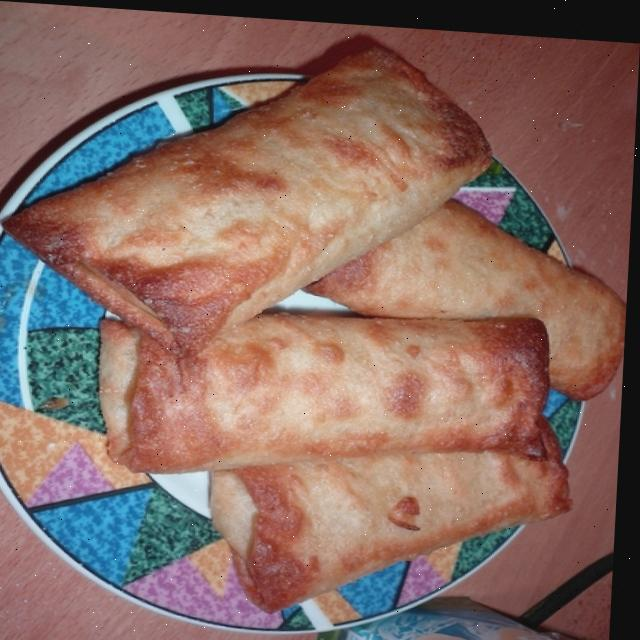炸货点心: (0, 30, 613, 625)
